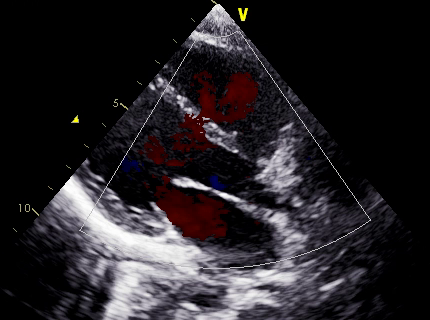AR: (150, 119, 213, 182)
